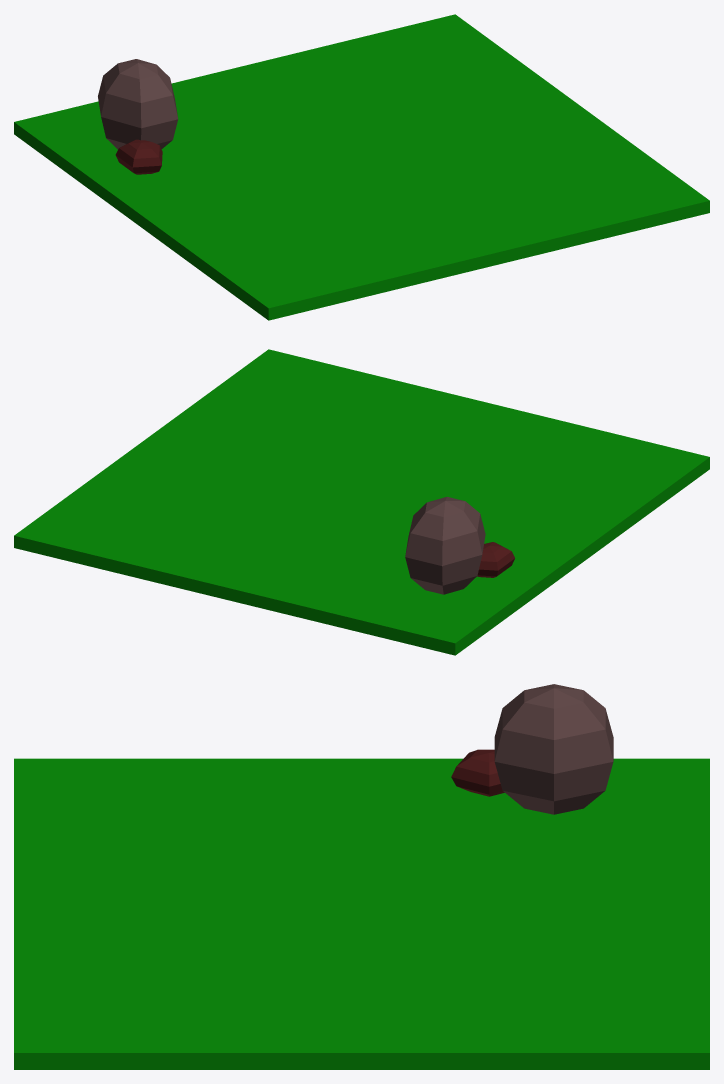
File: floor.fbx
3 views of the same model, one above another, from view 1: azimuth 30°, elevation 25°; view 2: azimuth 150°, elevation 25°; view 3: azimuth 270°, elevation 25° (orthographic). The views are drawn at different scales.
Parts seen in each view (by area): view 1: pCube1, pSphere2, pSphere1; view 2: pCube1, pSphere2, pSphere1; view 3: pCube1, pSphere2, pSphere1.
Boxes of the visible parts, x1,y1,x2,y2 form: pCube1: (14,14,709,320); pSphere2: (98,59,178,149); pSphere1: (115,139,162,174); pCube1: (14,349,709,655); pSphere2: (405,497,485,594); pSphere1: (477,542,514,577); pCube1: (14,758,709,1069); pSphere2: (494,684,613,814); pSphere1: (451,749,504,796).
Size of the model in its own units: 109 by 22.76 by 109.
